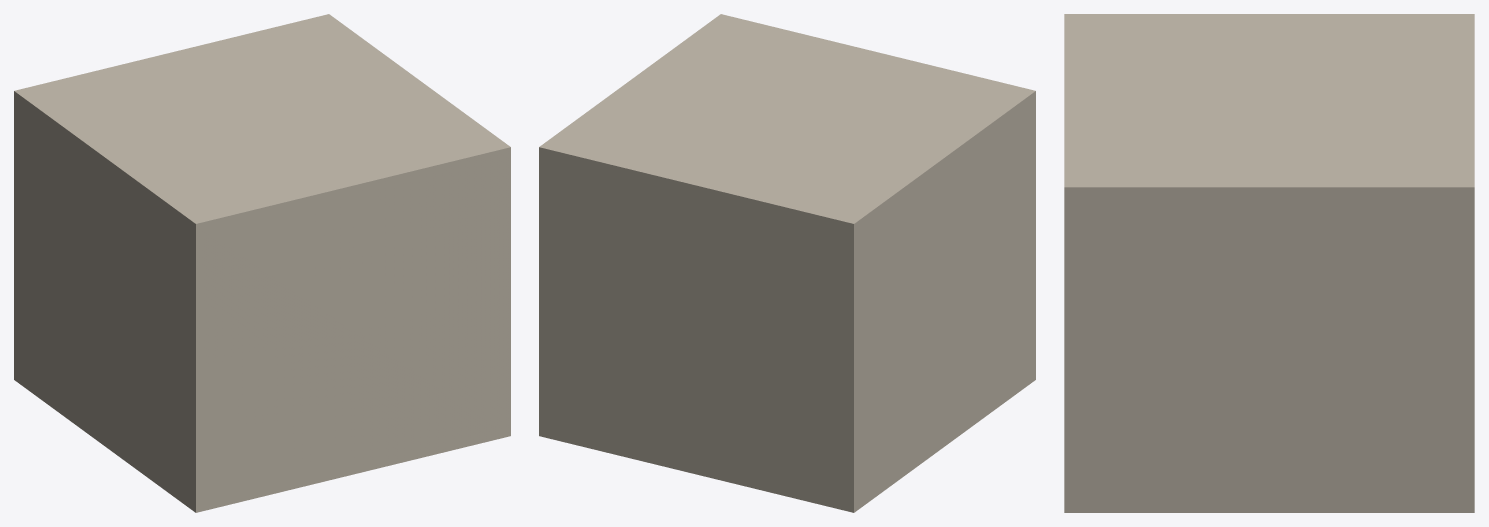
The model's file is ikea-landskrona-80530982-g2-proxy.glb.
The picture shows the model from 3 angles, left to right: view 1: azimuth 30°, elevation 25°; view 2: azimuth 150°, elevation 25°; view 3: azimuth 270°, elevation 25°; orthographic projection. The views are drawn at different scales.
Visible parts, largest first — view 1: proxy_body; view 2: proxy_body; view 3: proxy_body.
Part boxes in pixels (box(x1,y1,x2,y2)): proxy_body: box(14, 14, 510, 512); proxy_body: box(539, 14, 1035, 512); proxy_body: box(1064, 14, 1474, 512).
Size of the model in its own units: 0.89 by 0.78 by 0.89.
